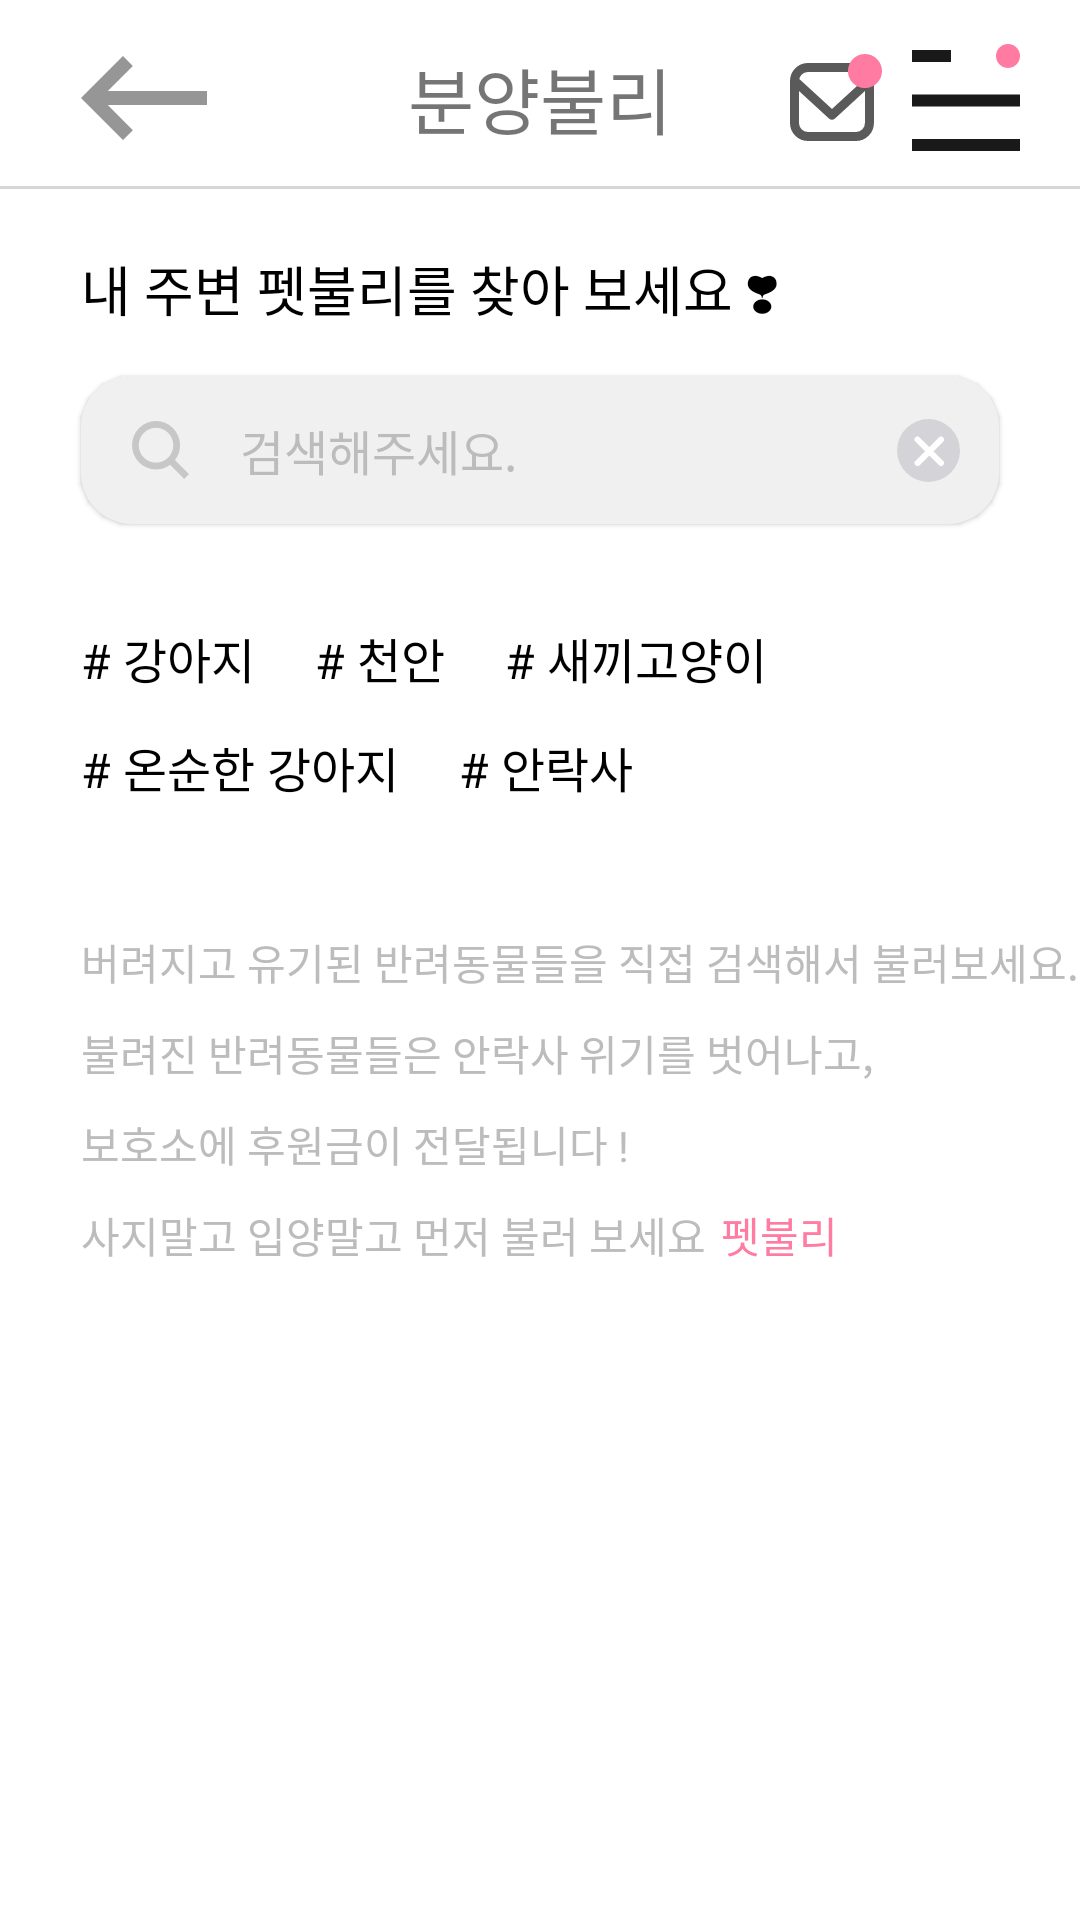

Where icons sit on this 1080 × 1920 app screen, as (x1, y1, x2, y2):
back: (81, 56, 207, 140)
cancel: (897, 419, 960, 482)
menu: (912, 44, 1020, 151)
search: (132, 421, 189, 479)
